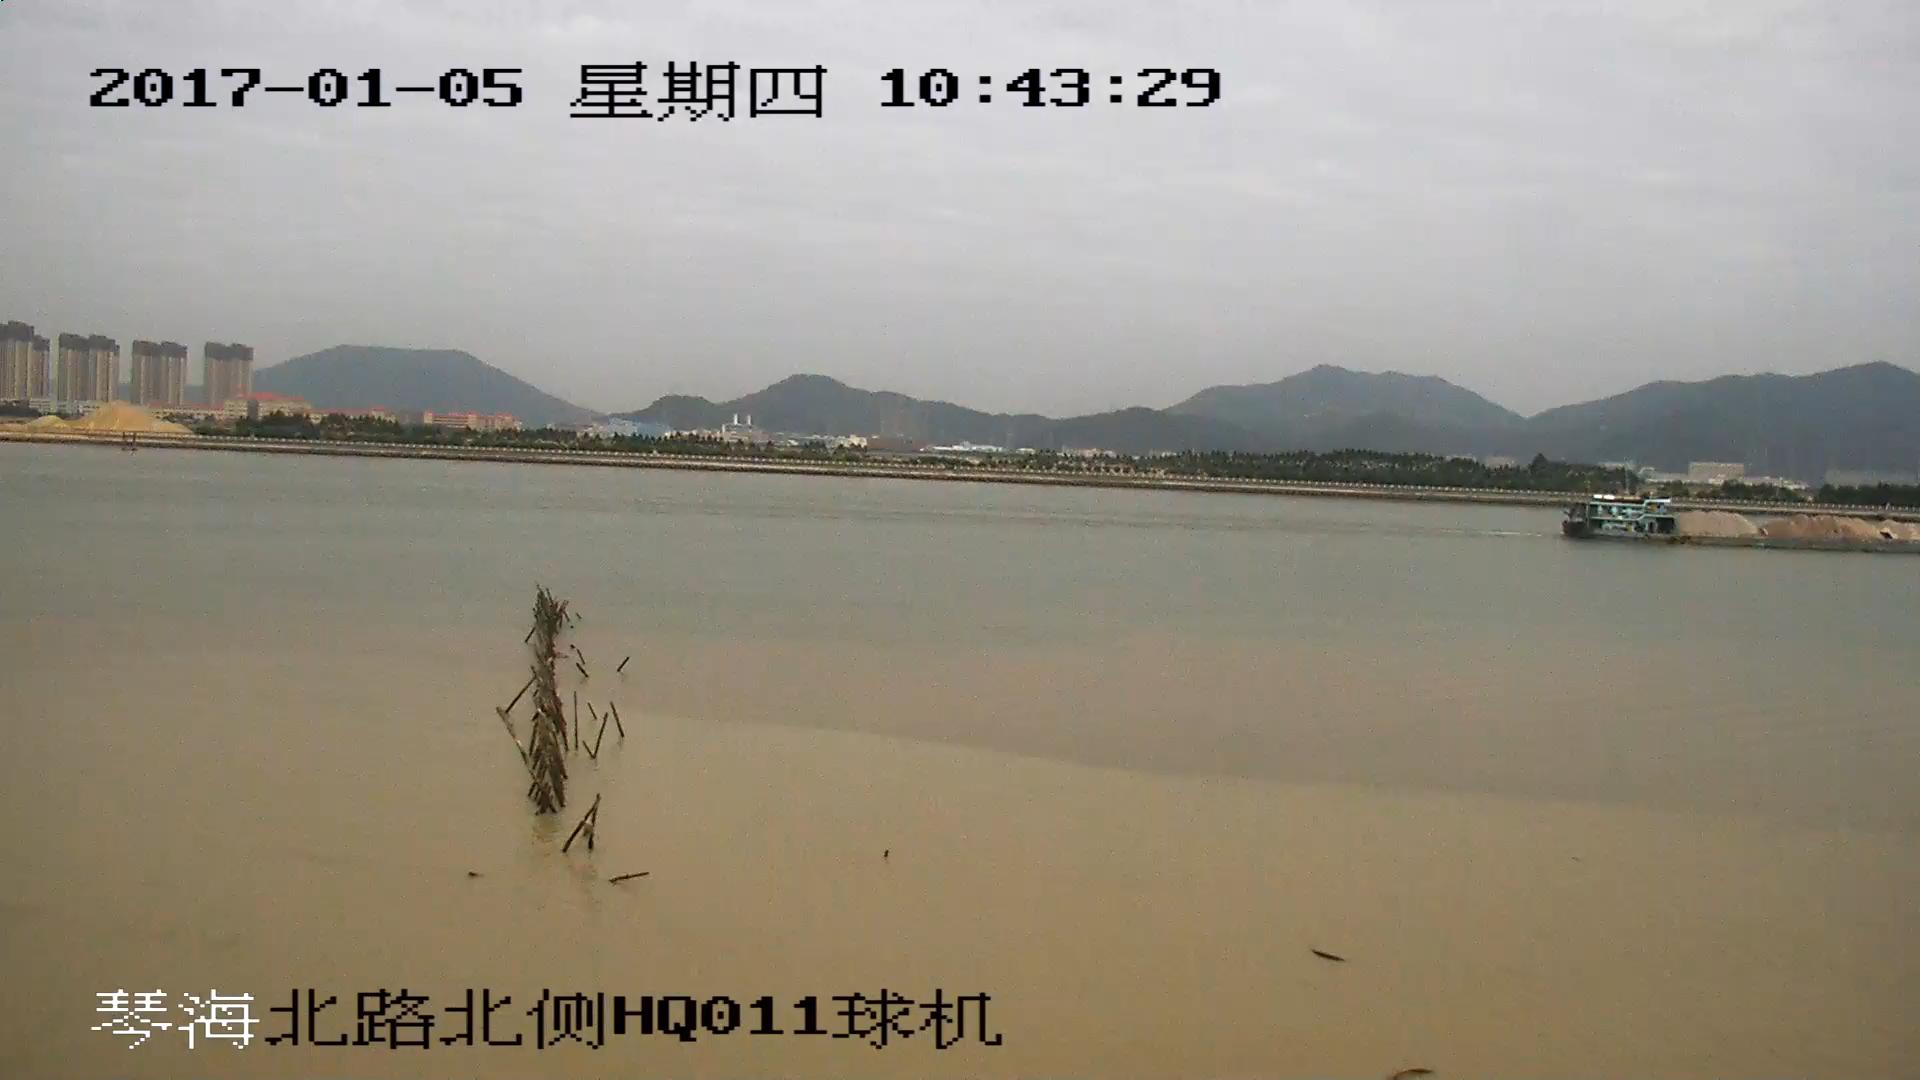ore carrier: (1558, 492, 1920, 550)
